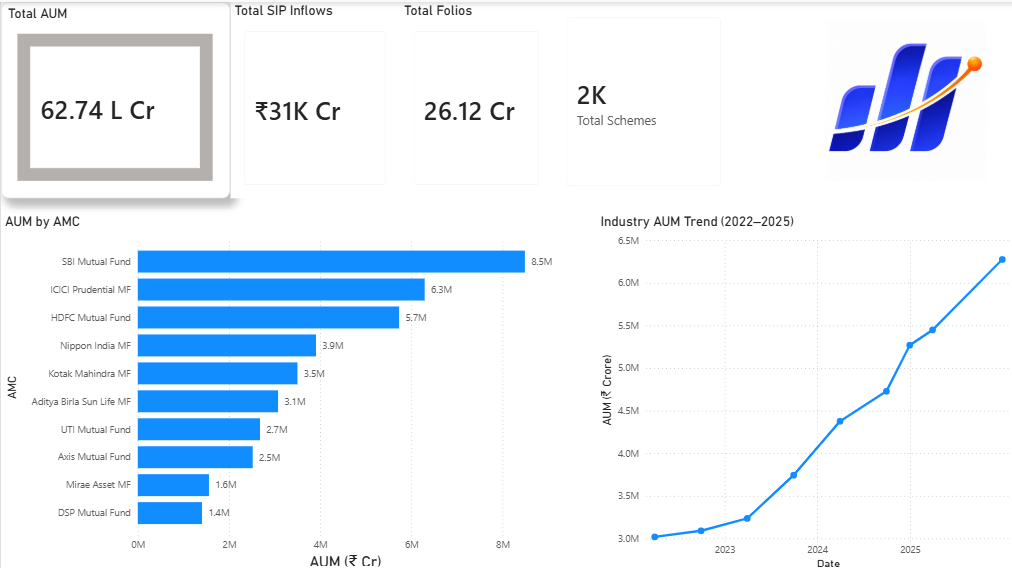

The page's visual inventory and layout, read from the dashboard file:
{"tool":"powerbi","page":{"name":"Industry Overview","canvas":[1280,720],"ordinal":0},"visuals":[{"type":"cardVisual","title":"Total AUM","fields":{"Data":["03_aum_by_fund_house_cleaned.Total AUM Display"]},"box":[0,0,288.9,247.1],"z":0},{"type":"cardVisual","title":"Total SIP Inflows","fields":{"Data":["01_fund_master_cleaned.Total SIP Inflows Display"]},"box":[289.1,0,213.5,247.6],"z":1000},{"type":"cardVisual","title":"Total Folios","fields":{"Data":["06_industry_folio_count_cleaned.Total Folios Display"]},"box":[502.7,0,192.8,247.6],"z":2000},{"type":"cardVisual","fields":{"Data":["03_aum_by_fund_house_cleaned.Total Schemes"]},"box":[695.4,1.9,228.7,247.6],"z":3000},{"type":"lineChart","title":"Industry AUM Trend (2022–2025)","fields":{"Y":["Sum(03_aum_by_fund_house_cleaned.aum_crore)"],"Category":["03_aum_by_fund_house_cleaned.date"]},"box":[750.4,266.7,528.9,454.3],"z":4000},{"type":"clusteredBarChart","title":"AUM by AMC","fields":{"Category":["03_aum_by_fund_house_cleaned.fund_house"],"Y":["Sum(03_aum_by_fund_house_cleaned.aum_crore)"]},"box":[0,266.5,708.7,453.5],"z":5000},{"type":"image","box":[1014.8,22.7,249.5,204.1],"z":5001}]}

Visuals, with their boxes in screenshot pixels (x1, y1, x2, y2), scaled from the page's 1280x720 canvas onto the 1012x568 screenshot:
"Total AUM" cardVisual: Rect(0, 0, 228, 195)
"Total SIP Inflows" cardVisual: Rect(229, 0, 397, 195)
"Total Folios" cardVisual: Rect(397, 0, 550, 195)
cardVisual - 03_aum_by_fund_house_cleaned.Total Schemes: Rect(550, 1, 731, 197)
"Industry AUM Trend (2022–2025)" lineChart: Rect(593, 210, 1011, 567)
"AUM by AMC" clusteredBarChart: Rect(0, 210, 560, 567)
image: Rect(802, 18, 1000, 179)
